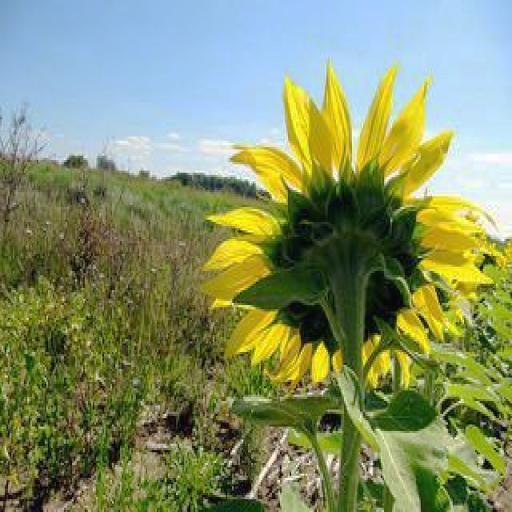sunflower: (206, 62, 494, 401)
